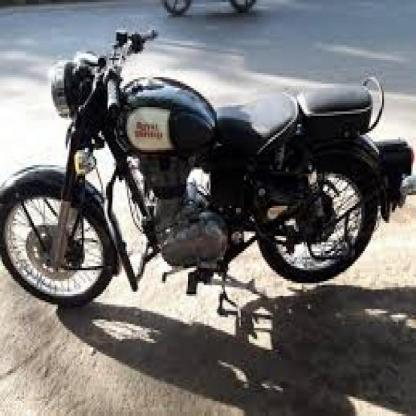bike: (6, 26, 412, 330)
